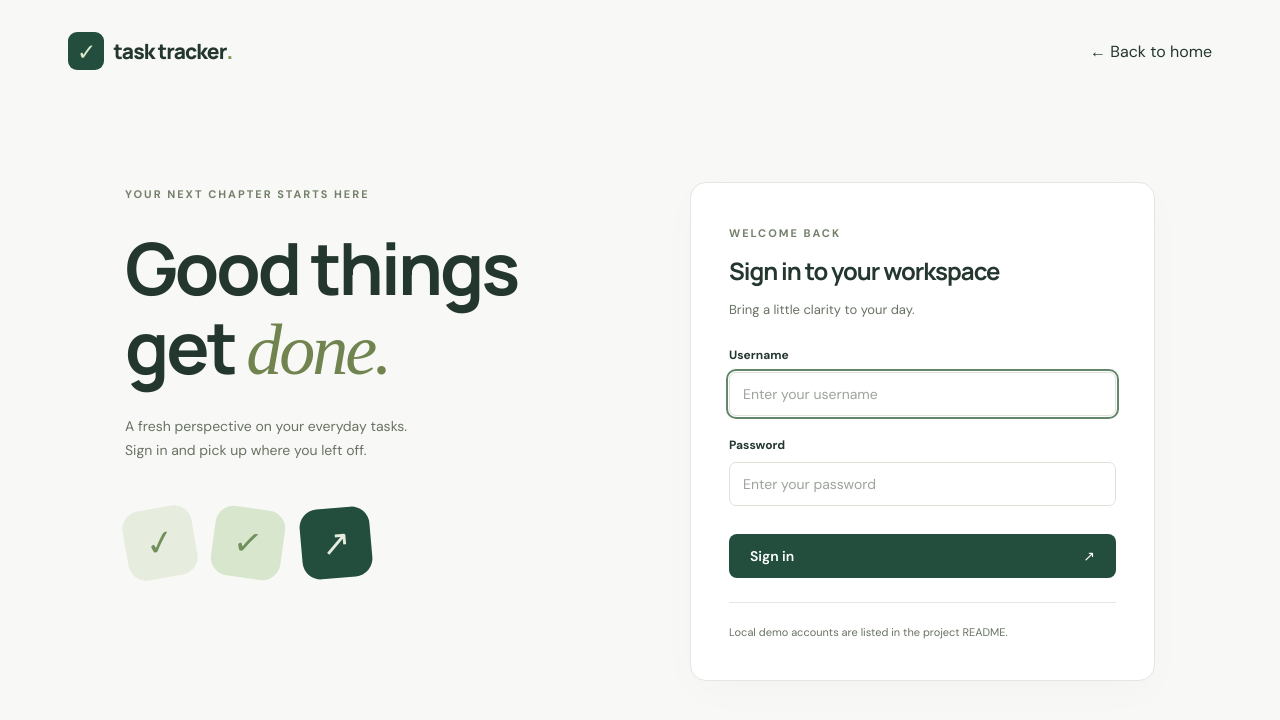
Test: essential workflows › displays invalid credentials
Type "alice" into the field labelled "Username" at (922, 394), box [729, 372, 1116, 416]
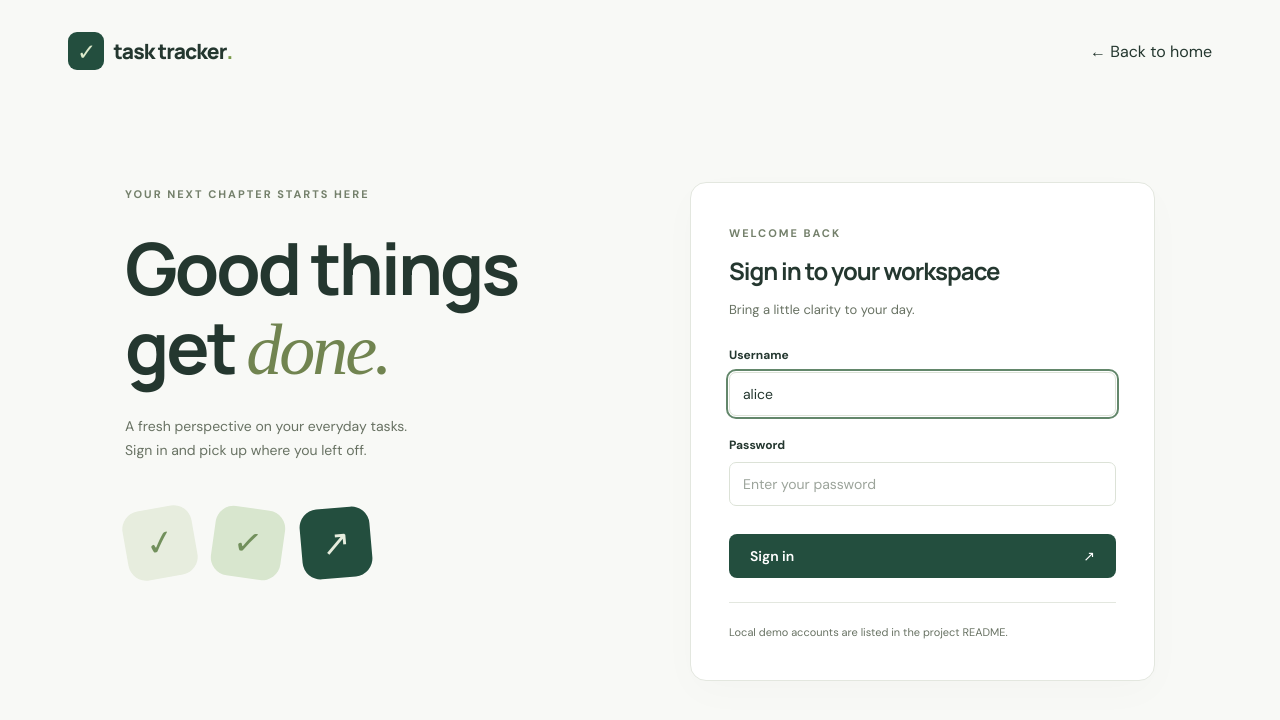
Type "bad" into the password field labelled "Password" at (922, 484), box [729, 462, 1116, 506]
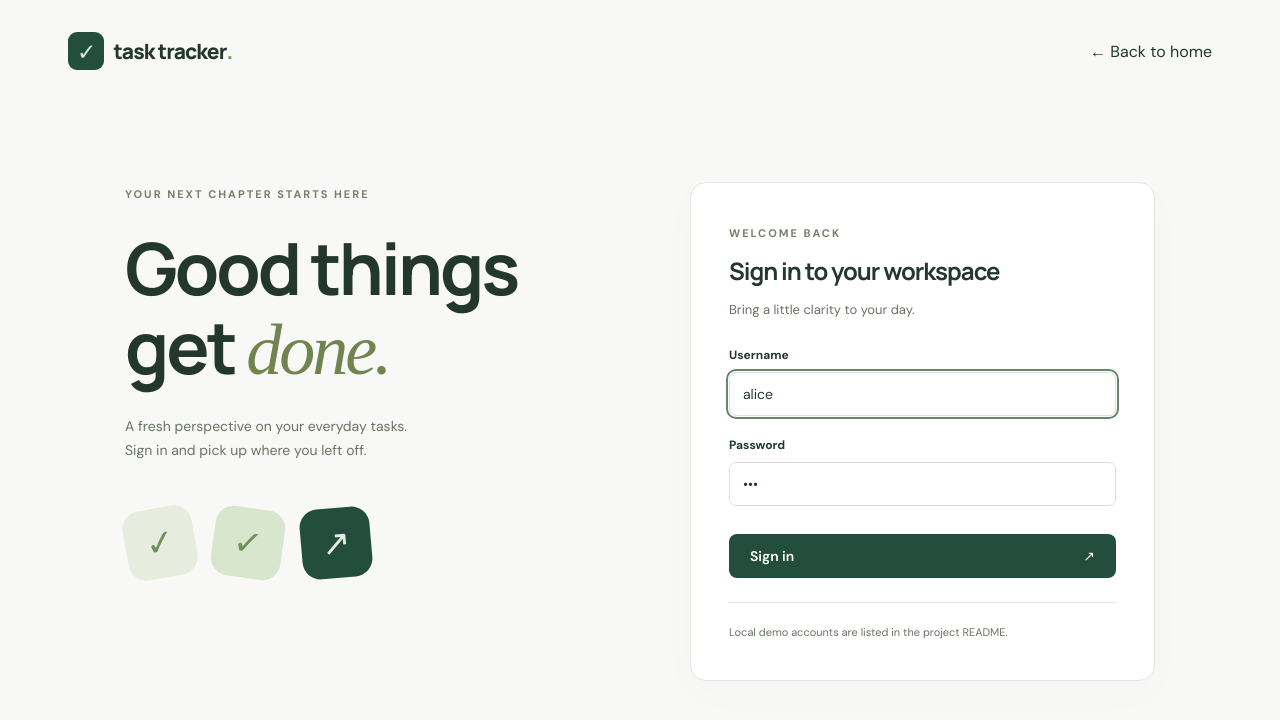
Click the button "Sign in ↗" at (772, 556), box [729, 534, 1116, 578]
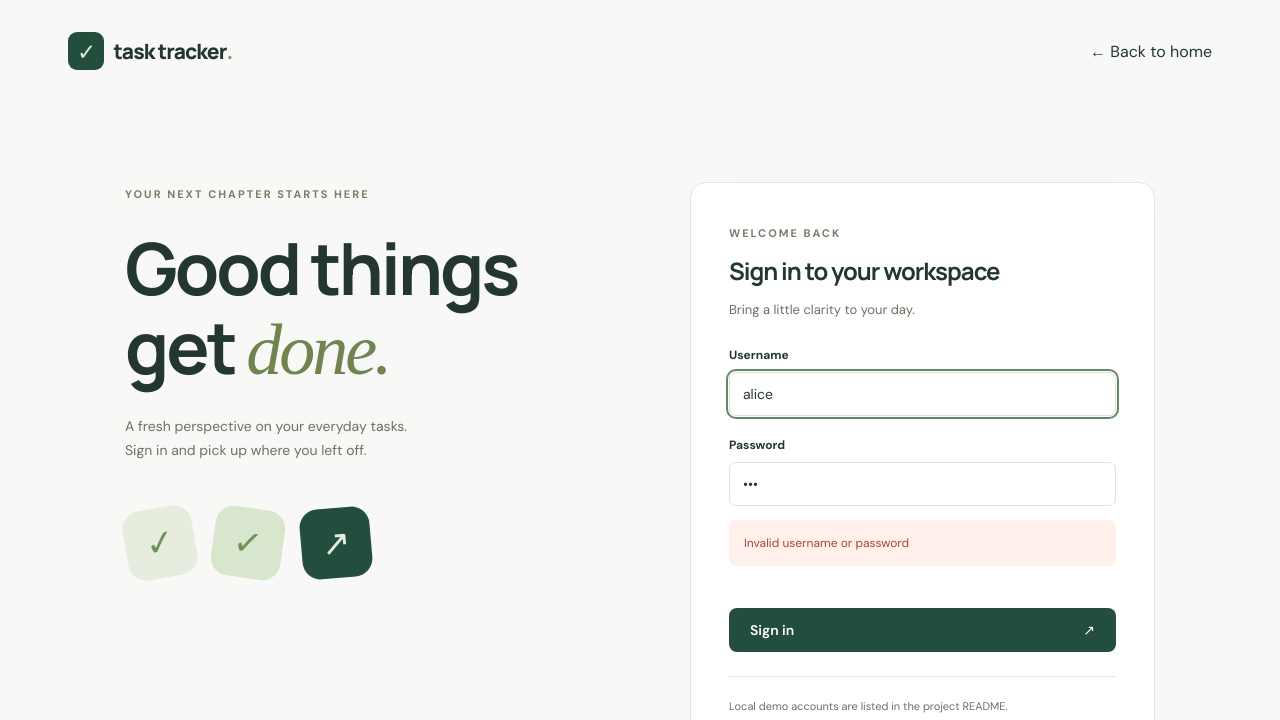
expect the message reads "Invalid username or password": met, box [744, 535, 909, 551]
